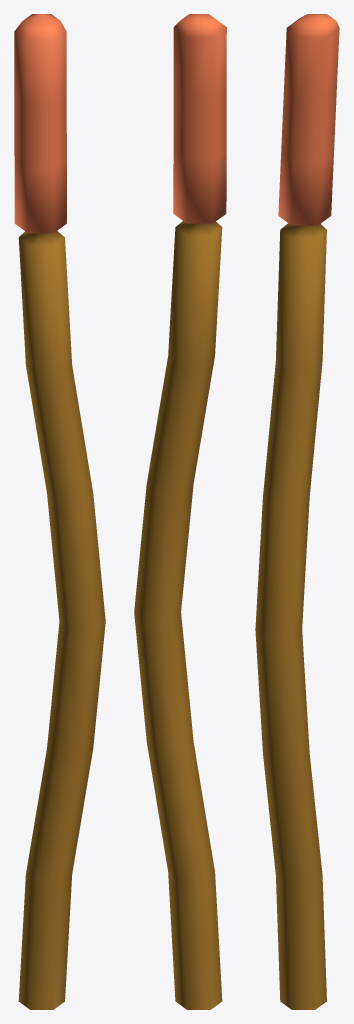
Rendered from RabodeGato2.fbx.
3 views of the same model, side by side, from view 1: azimuth 30°, elevation 25°; view 2: azimuth 210°, elevation 25°; view 3: azimuth 270°, elevation 25° (orthographic).
Visible parts, largest first — view 1: RabodeGato.002; view 2: RabodeGato.002; view 3: RabodeGato.002.
Part boxes in pixels (<box>): RabodeGato.002: <box>14,14,105,1009</box>; RabodeGato.002: <box>134,14,226,1009</box>; RabodeGato.002: <box>255,14,339,1009</box>.
Size of the model in its own units: 3.57 by 50.73 by 3.91.
